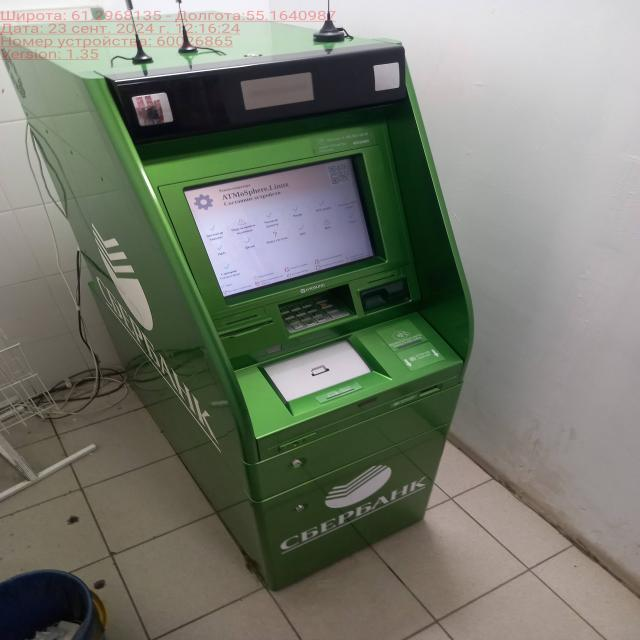bank: (0, 6, 473, 590)
